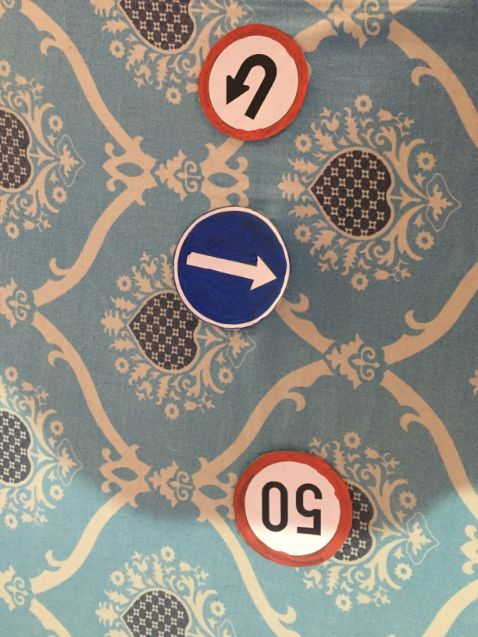go-stright: (171, 206, 293, 328)
speed-50: (233, 450, 351, 568)
u-turn: (197, 25, 310, 138)
